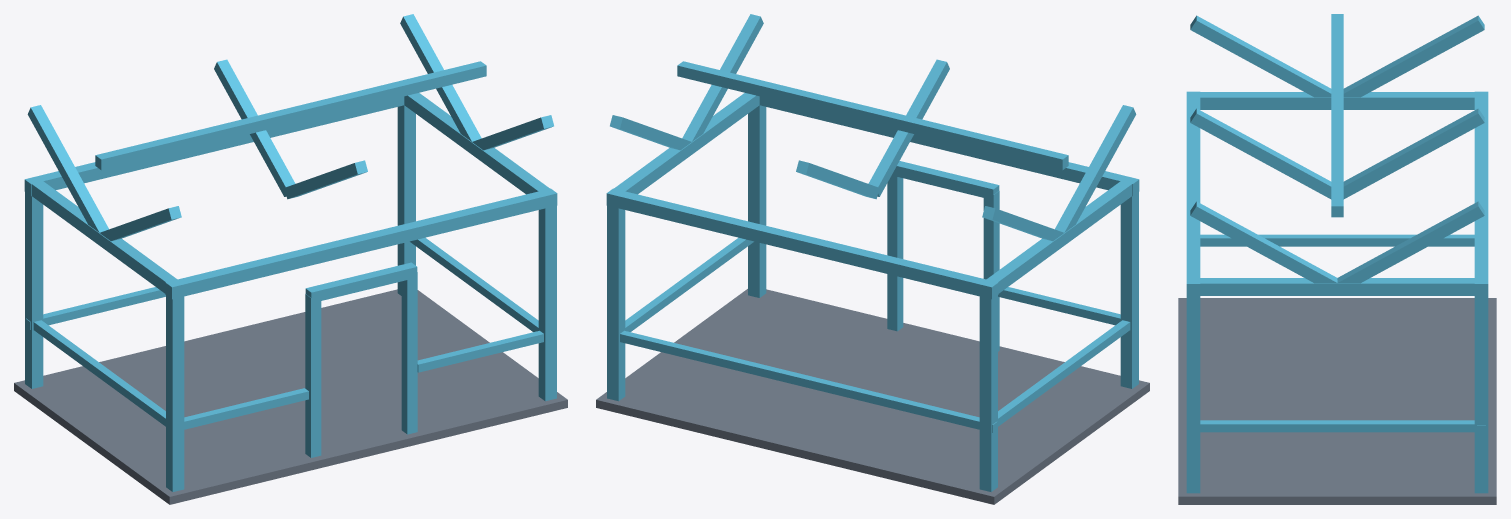
File: house-frame.gltf
The picture shows the model from 3 angles, left to right: view 1: azimuth 30°, elevation 25°; view 2: azimuth 150°, elevation 25°; view 3: azimuth 270°, elevation 25°; orthographic projection. The views are drawn at different scales.
Parts seen in each view (by area): view 1: Floor slab, Front top beam, Roof ridge, Corner post -2.9 1.9, Corner post 2.9 1.9, Back top beam, Corner post -2.9 -1.9, Left top beam, Right top beam, Door post -0.75, Corner post 2.9 -1.9, Door post 0.75 (+12 smaller); view 2: Floor slab, Back top beam, Roof ridge, Back lower rail, Corner post -2.9 -1.9, Corner post 2.9 -1.9, Front top beam, Corner post -2.9 1.9, Corner post 2.9 1.9, Left top beam, Right top beam, Front rafter -2.9 (+11 smaller); view 3: Floor slab, Right top beam, Left top beam, Right lower rail, Corner post 2.9 1.9, Corner post 2.9 -1.9, Back top beam, Front top beam, Left lower rail, Roof ridge, Front rafter 0, Back rafter 0 (+4 smaller).
Part boxes in pixels (x1,y1,x2,y2): Floor slab: (14,289,567,504); Front top beam: (165,188,557,299); Roof ridge: (95,61,486,170); Corner post -2.9 1.9: (166,289,184,491); Corner post 2.9 1.9: (538,198,556,401); Back top beam: (24,96,404,196); Corner post -2.9 -1.9: (25,192,43,388); Left top beam: (29,179,179,293); Right top beam: (404,93,552,194); Door post -0.75: (305,294,321,457); Corner post 2.9 -1.9: (397,105,415,295); Door post 0.75: (401,272,417,434); Floor slab: (596,289,1149,504); Back top beam: (606,188,998,299); Roof ridge: (677,61,1068,170); Back lower rail: (620,330,997,432); Corner post -2.9 -1.9: (979,289,997,491); Corner post 2.9 -1.9: (607,199,625,401); Front top beam: (759,96,1139,196); Corner post -2.9 1.9: (1120,192,1138,388); Corner post 2.9 1.9: (748,105,766,297); Left top beam: (984,179,1134,293); Right top beam: (611,93,759,194); Front rafter -2.9: (1055,105,1136,232); Floor slab: (1178,298,1496,504); Right top beam: (1193,278,1481,295); Left top beam: (1194,92,1481,109); Right lower rail: (1200,420,1474,432); Corner post 2.9 1.9: (1186,296,1200,493); Corner post 2.9 -1.9: (1474,296,1488,493); Back top beam: (1474,91,1488,296); Front top beam: (1186,91,1200,296); Left lower rail: (1200,234,1474,246); Roof ridge: (1331,14,1343,217); Front rafter 0: (1190,108,1331,199); Back rafter 0: (1343,108,1484,199).
Size of the model in its own units: 6.2 by 4.3 by 4.2.
